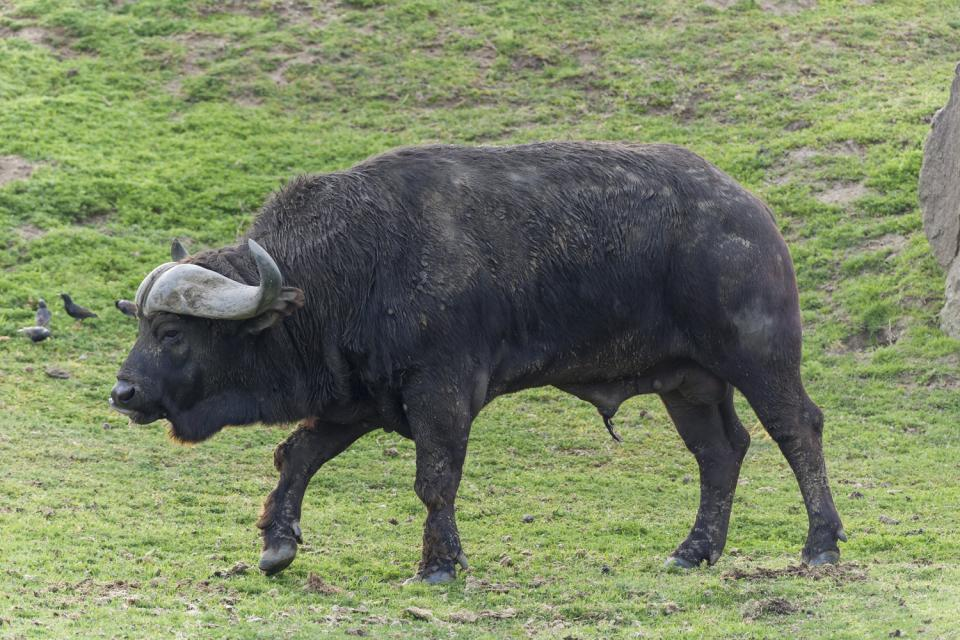Buffalo: (105, 154, 838, 640)
